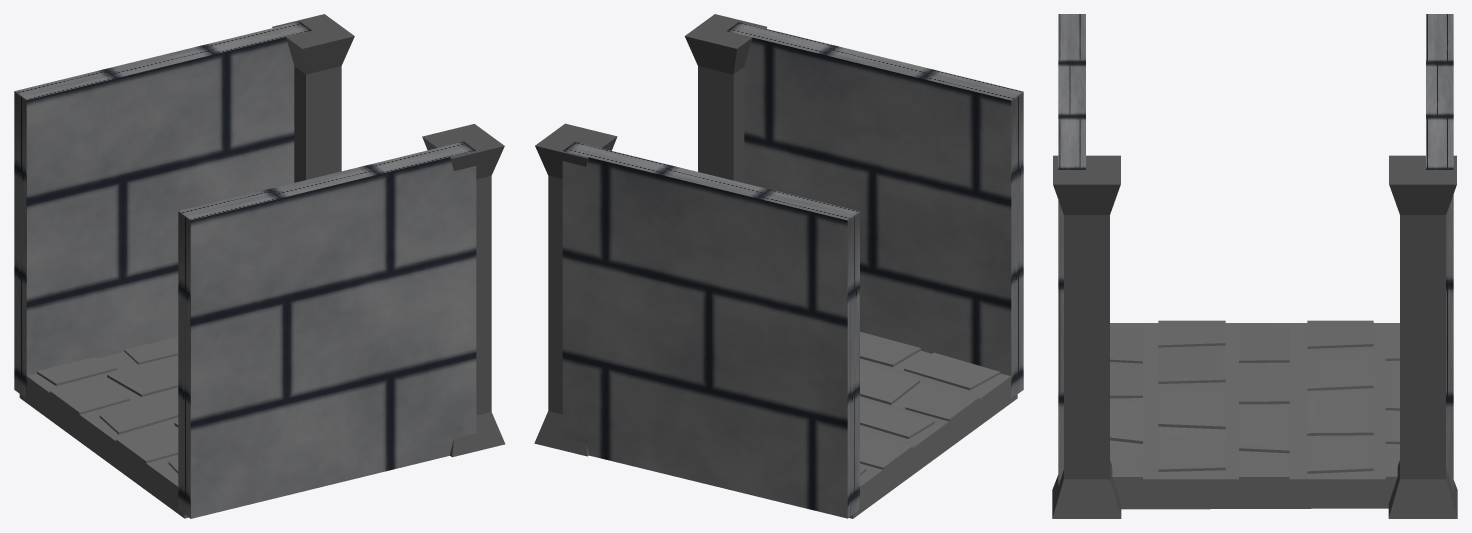
The model's file is enkelgang.fbx.
3 renders of one model, left to right at view 1: azimuth 30°, elevation 25°; view 2: azimuth 150°, elevation 25°; view 3: azimuth 270°, elevation 25°, orthographic. The views are drawn at different scales.
Visible parts, largest first — view 1: wall.044, wall.043, floor.010, pilar.037, pilar.042; view 2: wall.043, wall.044, floor.010, pilar.042, pilar.037; view 3: floor.010, pilar.042, pilar.037, wall.043, wall.044.
Boxes of the visible parts, left/top/right/bottom form: wall.044: left=178, top=141, right=476, bottom=518; wall.043: left=14, top=21, right=311, bottom=398; floor.010: left=19, top=336, right=188, bottom=518; pilar.037: left=272, top=14, right=354, bottom=182; pilar.042: left=422, top=124, right=505, bottom=457; wall.043: left=562, top=142, right=859, bottom=518; wall.044: left=727, top=22, right=1023, bottom=398; floor.010: left=849, top=331, right=1017, bottom=518; pilar.042: left=684, top=14, right=766, bottom=182; pilar.037: left=534, top=123, right=617, bottom=456; floor.010: left=1110, top=320, right=1399, bottom=509; pilar.042: left=1052, top=155, right=1121, bottom=518; pilar.037: left=1388, top=155, right=1457, bottom=518; wall.043: left=1426, top=14, right=1453, bottom=491; wall.044: left=1058, top=14, right=1085, bottom=485.
Bounding box in the file's own units: 219 × 203 × 219.
